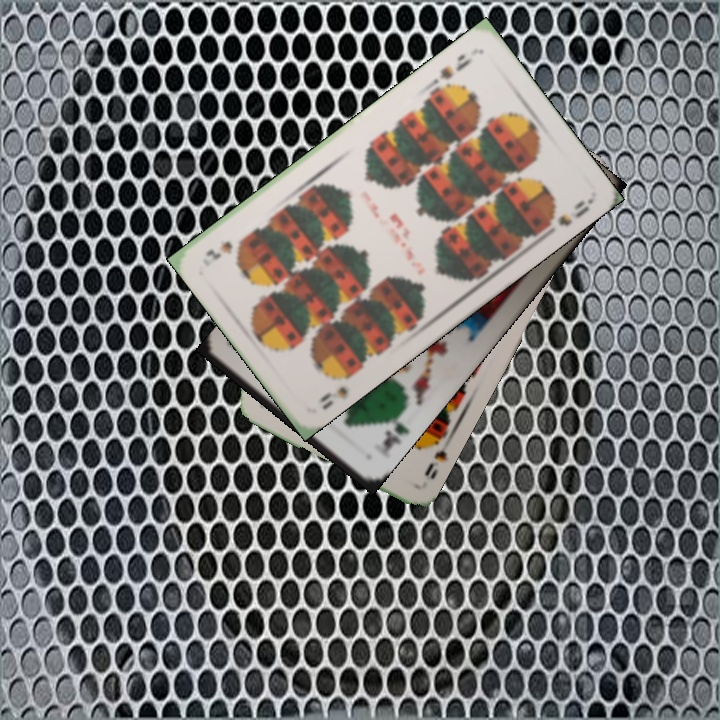GK: (379, 408, 412, 455)
S9: (316, 368, 358, 413), (420, 431, 450, 482), (435, 50, 476, 83)
